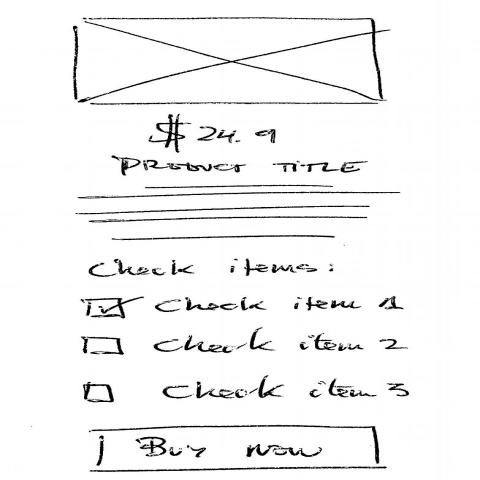Button: (82, 423, 391, 475)
Check Box: (76, 329, 374, 362), (83, 375, 379, 406), (78, 295, 366, 322)
Heading: (272, 159, 371, 176)
Image: (67, 15, 399, 107)
Paragraph: (72, 182, 410, 246)
